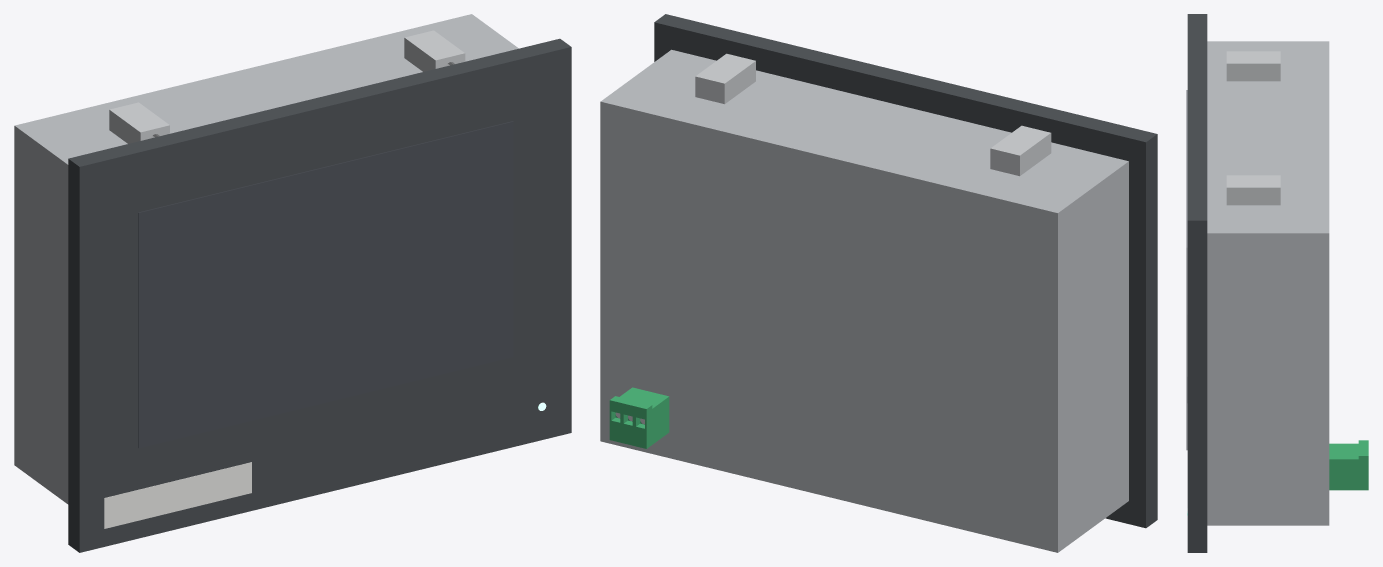
Rendered from hmi-7in.glb.
The picture shows the model from 3 angles, left to right: view 1: azimuth 30°, elevation 25°; view 2: azimuth 150°, elevation 25°; view 3: azimuth 270°, elevation 25°; orthographic projection. The views are drawn at different scales.
Parts seen in each view (by area): view 1: body, screen; view 2: body; view 3: body, screen.
Boxes of the visible parts, bbox=[...] form: body: bbox=[14, 14, 571, 552]; screen: bbox=[138, 121, 513, 448]; body: bbox=[600, 14, 1157, 552]; body: bbox=[1187, 14, 1368, 552]; screen: bbox=[1186, 90, 1187, 449].
Size of what is drawn, in the model's own units: 0.2 by 0.15 by 0.0745.
